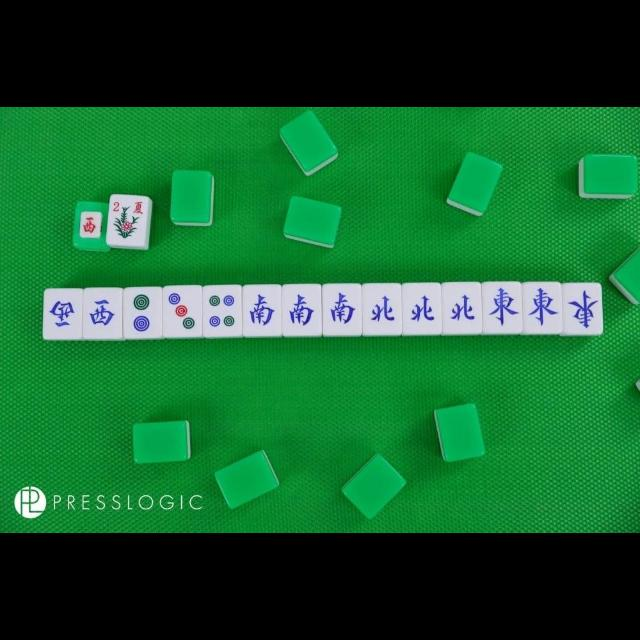d2: (125, 290, 162, 338)
d3: (163, 286, 203, 338)
d4: (204, 286, 242, 336)
s2: (108, 194, 148, 216)
we: (523, 284, 563, 334), (483, 283, 522, 333), (564, 286, 602, 332)
wn: (402, 284, 442, 334), (442, 282, 480, 334), (364, 285, 402, 333)
ws: (323, 284, 362, 336), (243, 285, 281, 335), (283, 286, 321, 336)
ww: (84, 288, 122, 339), (44, 290, 82, 338)
